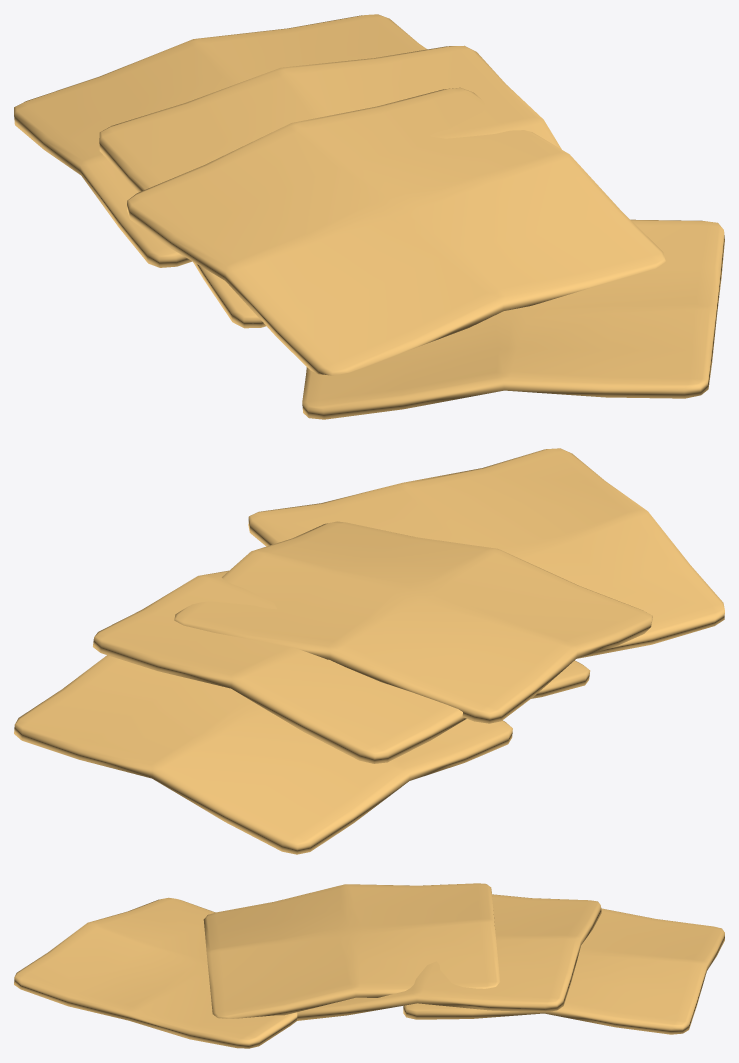
Rendered from CheeseSliced.glb.
3 renders of one model, top to bottom at view 1: azimuth 30°, elevation 25°; view 2: azimuth 150°, elevation 25°; view 3: azimuth 270°, elevation 25°, orthographic. The views are drawn at different scales.
Visible parts, largest first — view 1: Cube.056, Cube.055, Cube.057, Cube.058; view 2: Cube.056, Cube.058, Cube.055, Cube.057; view 3: Cube.056, Cube.055, Cube.058, Cube.057.
Part boxes in pixels (box(x1,y1,x2,y2)): Cube.056: box(127, 87, 665, 375); Cube.055: box(302, 219, 724, 419); Cube.057: box(99, 45, 561, 328); Cube.058: box(14, 14, 427, 267); Cube.056: box(174, 521, 652, 723); Cube.058: box(14, 655, 512, 854); Cube.055: box(248, 448, 724, 658); Cube.057: box(93, 570, 590, 763); Cube.056: box(203, 883, 500, 1018); Cube.055: box(14, 897, 297, 1048); Cube.058: box(403, 908, 724, 1034); Cube.057: box(296, 894, 601, 1020).
Bounding box in the file's own units: 0.1682 × 0.0305 × 0.3055.
